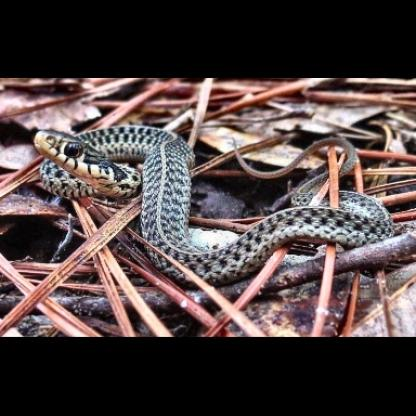Snake: (27, 118, 393, 283)
